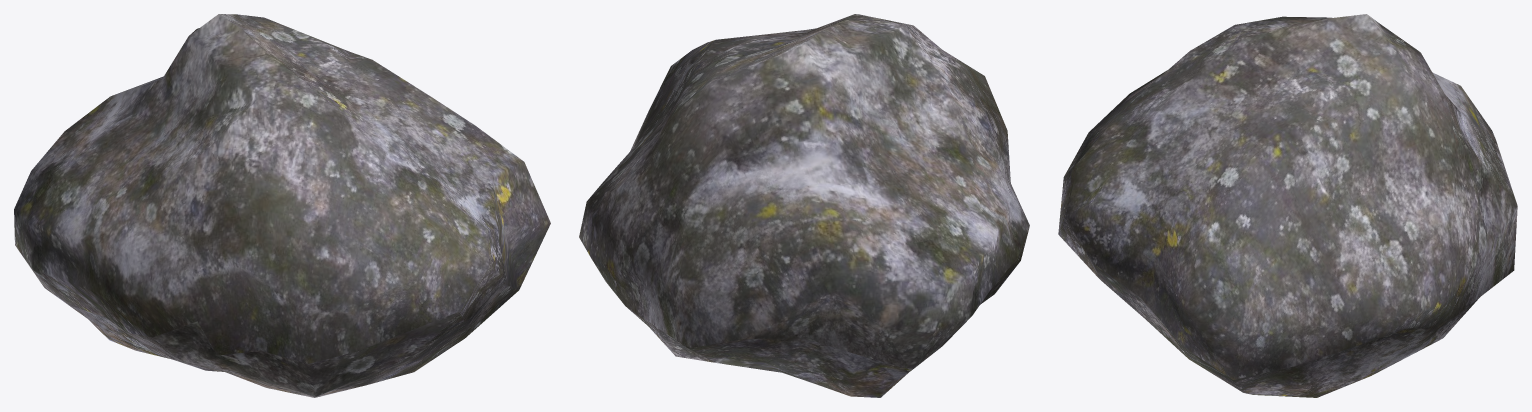
File: Rock.fbx
The picture shows the model from 3 angles, left to right: view 1: azimuth 30°, elevation 25°; view 2: azimuth 150°, elevation 25°; view 3: azimuth 270°, elevation 25°; orthographic projection. The views are drawn at different scales.
Visible parts, largest first — view 1: pPlatonic1; view 2: pPlatonic1; view 3: pPlatonic1.
Part boxes in pixels (<box>): pPlatonic1: <box>14,14,550,397</box>; pPlatonic1: <box>579,14,1029,397</box>; pPlatonic1: <box>1058,14,1517,397</box>.
Size of the model in its own units: 0.9941 by 0.7762 by 0.9973.
Materials: 1 (1 with a texture image).
